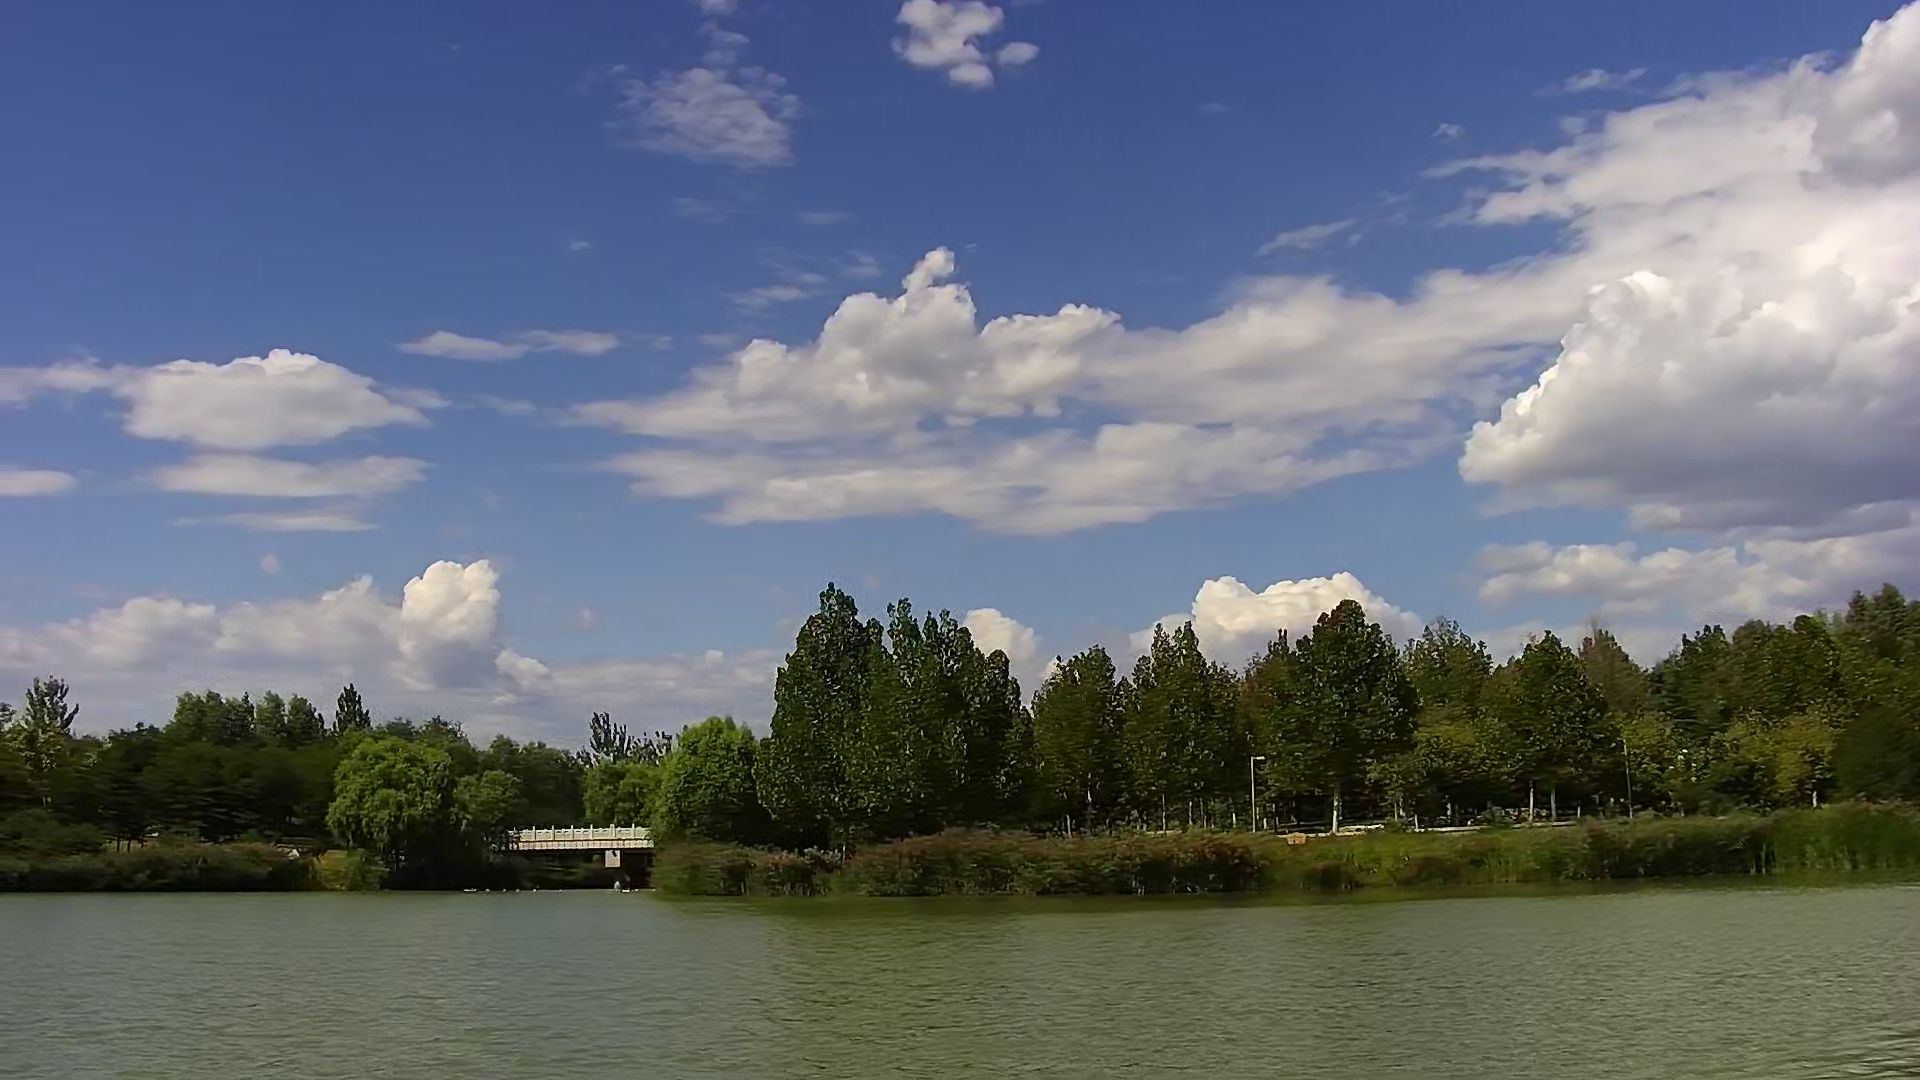bridge: (512, 827, 647, 880)
